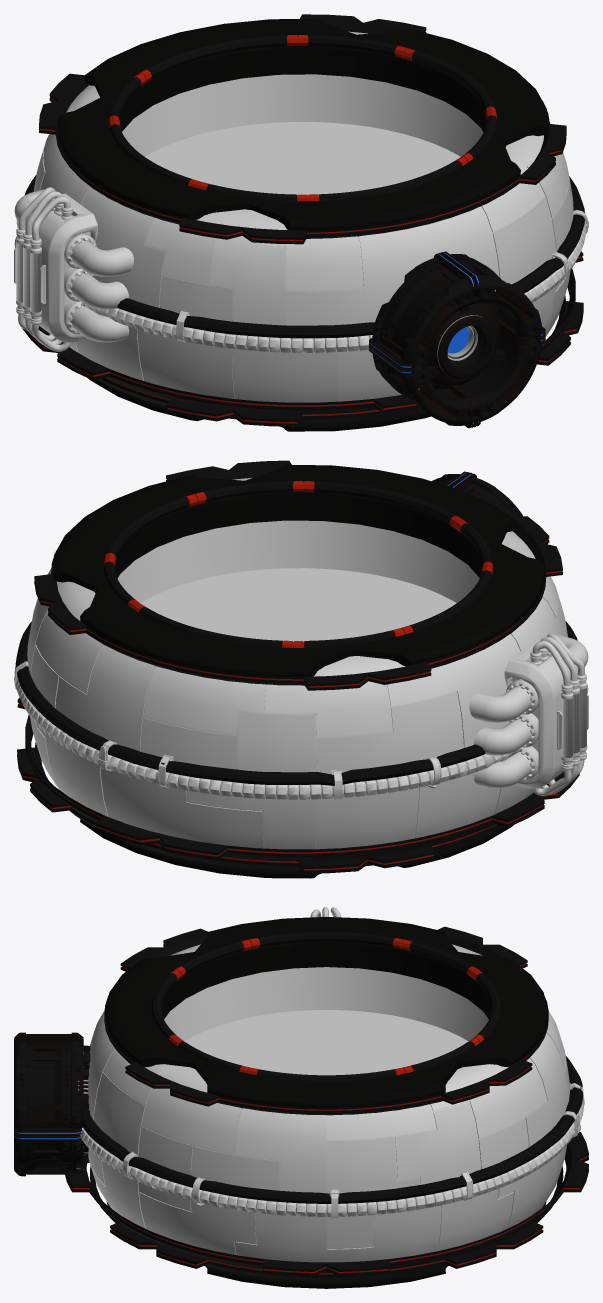
Rendered from sunship file.fbx.
3 renders of one model, top to bottom at view 1: azimuth 30°, elevation 25°; view 2: azimuth 150°, elevation 25°; view 3: azimuth 270°, elevation 25°, orthographic. The views are drawn at different scales.
Visible parts, largest first — view 1: MainBody (×6), B_TopRing (×7), Surface B_T (×5), Jet (×6), SideMachine (×4), M_MidRing (×6), S_TopRing (×7), T_CloseRing (×3), S_BottomRing2 (×4), S_BottomRing (×5), B_BottomRing; view 2: MainBody (×6), B_TopRing (×6), Surface B_T (×4), M_MidRing (×6), SideMachine (×4), S_TopRing (×7), T_CloseRing (×3), S_BottomRing2 (×5), S_BottomRing (×5), B_BottomRing (×2), Jet; view 3: MainBody (×6), B_TopRing (×7), Surface B_T (×3), M_MidRing (×6), Jet (×4), S_TopRing (×7), S_BottomRing2 (×5), T_CloseRing (×3), S_BottomRing (×6), B_BottomRing (×2).
Boxes of the visible parts, x1=… form: MainBody (×6): x1=33, y1=31, x2=573, y2=402; B_TopRing (×7): x1=58, y1=19, x2=547, y2=230; Surface B_T (×5): x1=122, y1=74, x2=483, y2=195; Jet (×6): x1=368, y1=251, x2=545, y2=428; SideMachine (×4): x1=14, y1=187, x2=133, y2=351; M_MidRing (×6): x1=16, y1=175, x2=588, y2=352; S_TopRing (×7): x1=39, y1=14, x2=566, y2=244; T_CloseRing (×3): x1=108, y1=35, x2=496, y2=201; S_BottomRing2 (×4): x1=25, y1=251, x2=582, y2=414; S_BottomRing (×5): x1=97, y1=301, x2=583, y2=426; B_BottomRing: x1=153, y1=403, x2=430, y2=431; MainBody (×6): x1=27, y1=477, x2=567, y2=849; B_TopRing (×6): x1=53, y1=465, x2=543, y2=676; Surface B_T (×4): x1=117, y1=520, x2=479, y2=641; M_MidRing (×6): x1=14, y1=621, x2=577, y2=799; SideMachine (×4): x1=469, y1=633, x2=588, y2=795; S_TopRing (×7): x1=34, y1=460, x2=562, y2=690; T_CloseRing (×3): x1=104, y1=481, x2=493, y2=647; S_BottomRing2 (×5): x1=17, y1=698, x2=579, y2=860; S_BottomRing (×5): x1=17, y1=747, x2=504, y2=873; B_BottomRing (×2): x1=80, y1=787, x2=540, y2=878; Jet: x1=432, y1=474, x2=521, y2=517; MainBody (×6): x1=88, y1=944, x2=569, y2=1262; B_TopRing (×7): x1=105, y1=917, x2=547, y2=1107; Surface B_T (×3): x1=164, y1=967, x2=488, y2=1075; M_MidRing (×6): x1=80, y1=1056, x2=584, y2=1218; Jet (×4): x1=14, y1=1032, x2=90, y2=1176; S_TopRing (×7): x1=104, y1=926, x2=548, y2=1115; S_BottomRing2 (×5): x1=64, y1=1132, x2=588, y2=1276; T_CloseRing (×3): x1=151, y1=931, x2=501, y2=1081; S_BottomRing (×6): x1=90, y1=1172, x2=563, y2=1280; B_BottomRing (×2): x1=205, y1=1266, x2=447, y2=1288.
Size of the model in its own units: 679 by 263 by 706.
